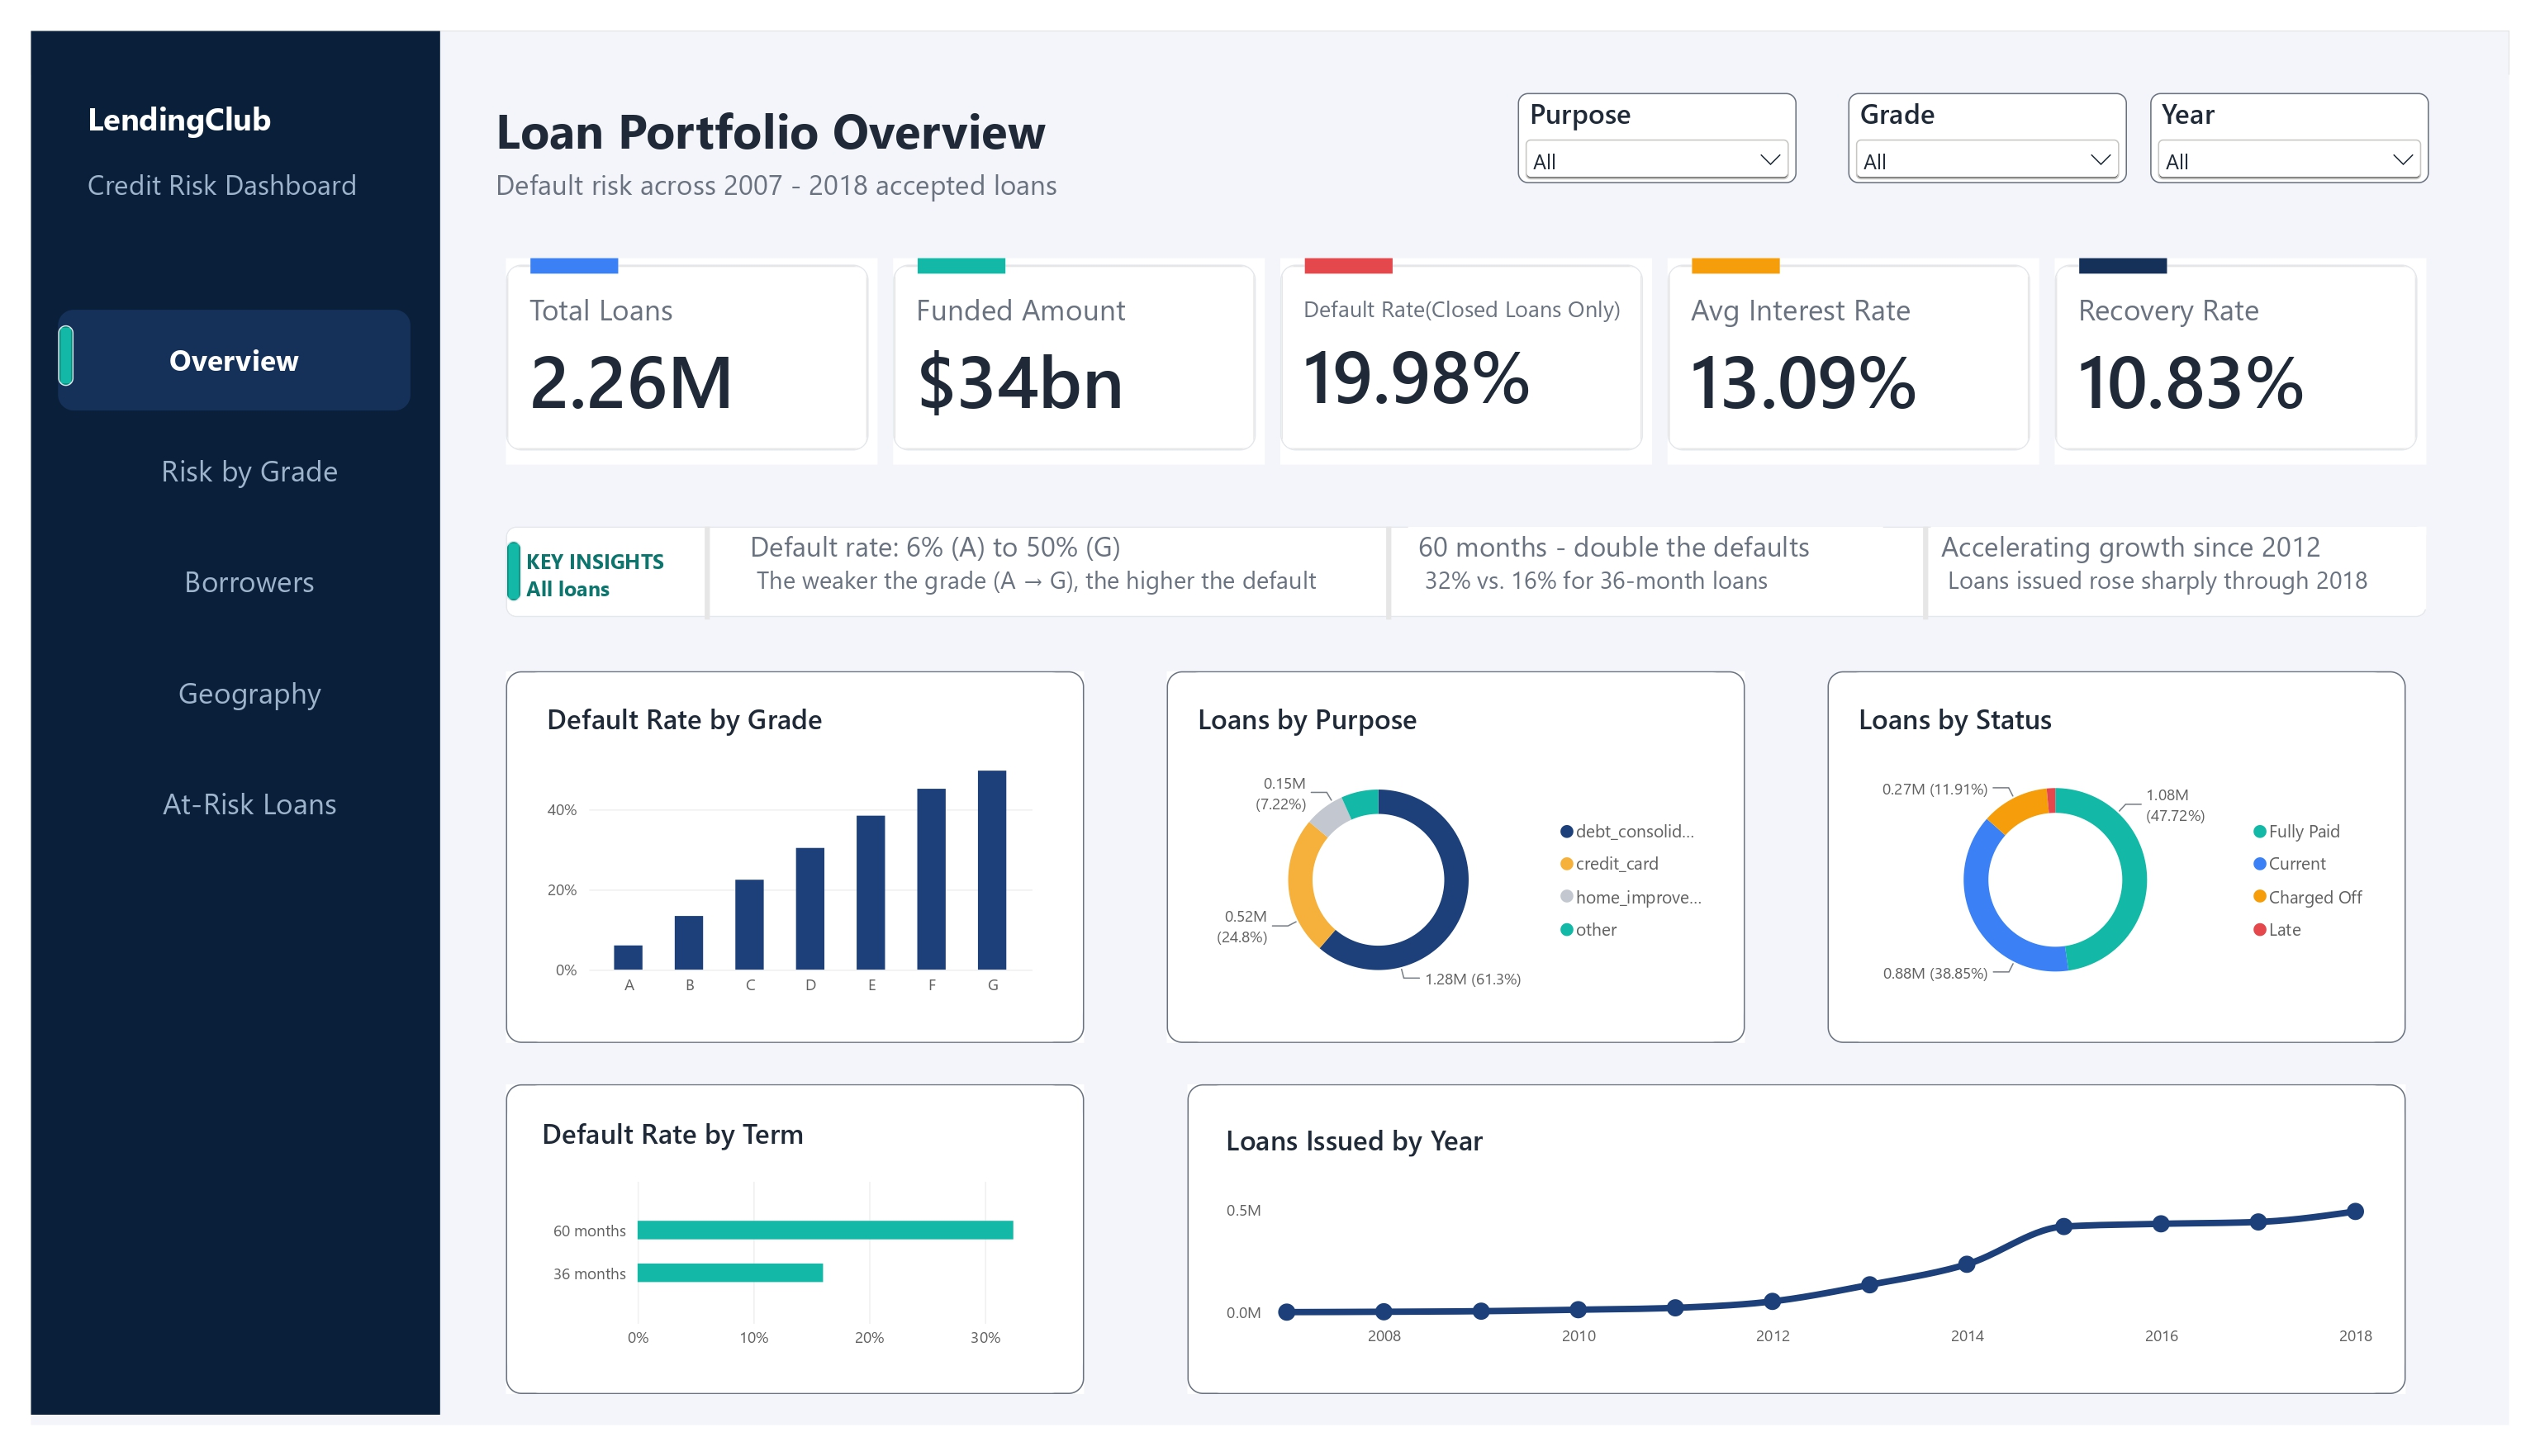

Layout of this report page (visuals, bound fields, positions):
{"tool":"powerbi","page":{"name":"Overview","canvas":[1920,1080],"ordinal":0},"visuals":[{"type":"shape","box":[0,-8,317,1080],"z":0},{"type":"cardVisual","fields":{"Data":["loans_dashboard.Total Loans M"]},"box":[368,181,281,144],"z":0,"group":"g4"},{"type":"cardVisual","fields":{"Data":["Sum(loans_dashboard.funded_amnt)"]},"box":[668,181,281,144],"z":0,"group":"g1"},{"type":"cardVisual","fields":{"Data":["loans_dashboard.Charge-off Rate per 100 (closed loans)"]},"box":[968,181,281,144],"z":0,"group":"g2"},{"type":"cardVisual","fields":{"Data":["loans_dashboard.Avg Interest Rate"]},"box":[1268,181,281,144],"z":0,"group":"g3"},{"type":"cardVisual","fields":{"Data":["loans_dashboard.Recovery Rate"]},"box":[1568,181,281,144],"z":0,"group":"g5"},{"type":"textbox","box":[44,51,245,57],"z":1000},{"type":"shape","box":[387,176,68,12],"z":1000,"group":"g4"},{"type":"shape","box":[687,176,68,12],"z":1000,"group":"g1"},{"type":"shape","box":[987,176,68,12],"z":1000,"group":"g2"},{"type":"shape","box":[1287,176,68,12],"z":1000,"group":"g3"},{"type":"shape","box":[1587,176,68,12],"z":1000,"group":"g5"},{"type":"textbox","box":[44,104,245,44],"z":2000},{"type":"pageNavigator","box":[21,216,273,426],"z":3000},{"type":"shape","box":[21,228,12,47],"z":4000},{"type":"textbox","box":[360,51,552,72],"z":5000},{"type":"textbox","box":[360,104,528,48],"z":6000},{"type":"slicer","fields":{"Values":["loans_dashboard.issue_d.Variation.Date Hierarchy.Year"]},"box":[1642,48,216,70],"z":7000},{"type":"group","id":"g1","title":"Group 1","box":[668,176,288,160],"z":8000},{"type":"group","id":"g2","title":"Group 1","box":[968,176,288,160],"z":9000},{"type":"group","id":"g3","title":"Group 1","box":[1268,176,288,160],"z":10000},{"type":"group","id":"g4","title":"Group 1","box":[368,176,288,160],"z":11000},{"type":"group","id":"g5","title":"Group 1","box":[1568,176,288,160],"z":12000},{"type":"shape","box":[368,384,1488,70],"z":13000},{"type":"shape","box":[368,496,448,288],"z":13000,"group":"g6"},{"type":"shape","box":[368,395,12,47],"z":14000},{"type":"slicer","fields":{"Values":["loans_dashboard.grade"]},"box":[1408,48,216,70],"z":15000},{"type":"shape","box":[880,496,448,288],"z":15000,"group":"g9"},{"type":"shape","box":[1392,496,448,288],"z":15000,"group":"g7"},{"type":"shape","box":[368,816,448,240],"z":15000,"group":"g10"},{"type":"slicer","fields":{"Values":["loans_dashboard.purpose"]},"box":[1152,48,216,70],"z":16000},{"type":"group","id":"g6","title":"Group 2","box":[368,496,448,288],"z":17000},{"type":"shape","box":[896,816,944,240],"z":17000,"group":"g8"},{"type":"clusteredColumnChart","title":"Default Rate by Grade","fields":{"Category":["loans_dashboard.grade"],"Y":["loans_dashboard.Charge-off Rate per 100 (closed loans)"]},"box":[384,504,408,264],"z":17005,"group":"g6"},{"type":"donutChart","title":"Loans by Purpose","fields":{"Category":["loans_dashboard.purpose"],"Y":["CountNonNull(loans_dashboard.id)"]},"box":[888,504,432,264],"z":17007,"group":"g9"},{"type":"donutChart","title":"Loans by Status","fields":{"Category":["loans_dashboard.loan_status (groups)"],"Y":["CountNonNull(loans_dashboard.id)"]},"box":[1400,504,432,264],"z":17007,"group":"g7"},{"type":"group","id":"g7","title":"Group 3","box":[1392,496,456,288],"z":18000},{"type":"group","id":"g8","title":"Group 4","box":[896,816,944,240],"z":19000},{"type":"group","id":"g9","title":"Group 3","box":[880,496,448,288],"z":20000},{"type":"barChart","title":"Default Rate by Term","fields":{"Category":["loans_dashboard.term"],"Y":["loans_dashboard.Charge-off Rate per 100 (closed loans)"]},"box":[380,825,432,216],"z":20002,"group":"g10"},{"type":"group","id":"g10","title":"Group 5","box":[368,816,448,240],"z":21000},{"type":"lineChart","title":"Loans Issued by Year","fields":{"Category":["loans_dashboard.issue_d.Variation.Date Hierarchy.Year"],"Y":["CountNonNull(loans_dashboard.id)"]},"box":[910,830,920,210],"z":21001,"group":"g8"},{"type":"textbox","box":[384,400,128,48],"z":22000},{"type":"textbox","box":[1472,384,384,64],"z":23000},{"type":"textbox","box":[1066.7,384,368,64],"z":24000},{"type":"textbox","box":[549.3,384,480,64],"z":25000},{"type":"shape","box":[1040,384,24,72],"z":26000},{"type":"shape","box":[512,384,24,72],"z":27000},{"type":"shape","box":[1456,384,24,72],"z":28000}]}

Visuals, with their boxes on the page's 1920x1080 design canvas (x1, y1, x2, y2). These are canvas units, not pixel positions in the 2540x1456 screenshot, which may show the page scaled, cropped or inside an application window:
shape: bbox(0, -8, 317, 1072)
cardVisual - loans_dashboard.Total Loans M: bbox(368, 181, 649, 325)
cardVisual - Sum(loans_dashboard.funded_amnt): bbox(668, 181, 949, 325)
cardVisual - loans_dashboard.Charge-off Rate per 100 (closed loans): bbox(968, 181, 1249, 325)
cardVisual - loans_dashboard.Avg Interest Rate: bbox(1268, 181, 1549, 325)
cardVisual - loans_dashboard.Recovery Rate: bbox(1568, 181, 1849, 325)
textbox: bbox(44, 51, 289, 108)
shape: bbox(387, 176, 455, 188)
shape: bbox(687, 176, 755, 188)
shape: bbox(987, 176, 1055, 188)
shape: bbox(1287, 176, 1355, 188)
shape: bbox(1587, 176, 1655, 188)
textbox: bbox(44, 104, 289, 148)
pageNavigator: bbox(21, 216, 294, 642)
shape: bbox(21, 228, 33, 275)
textbox: bbox(360, 51, 912, 123)
textbox: bbox(360, 104, 888, 152)
slicer - loans_dashboard.issue_d.Variation.Date Hierarchy.Year: bbox(1642, 48, 1858, 118)
"Group 1" group: bbox(668, 176, 956, 336)
"Group 1" group: bbox(968, 176, 1256, 336)
"Group 1" group: bbox(1268, 176, 1556, 336)
"Group 1" group: bbox(368, 176, 656, 336)
"Group 1" group: bbox(1568, 176, 1856, 336)
shape: bbox(368, 384, 1856, 454)
shape: bbox(368, 496, 816, 784)
shape: bbox(368, 395, 380, 442)
slicer - loans_dashboard.grade: bbox(1408, 48, 1624, 118)
shape: bbox(880, 496, 1328, 784)
shape: bbox(1392, 496, 1840, 784)
shape: bbox(368, 816, 816, 1056)
slicer - loans_dashboard.purpose: bbox(1152, 48, 1368, 118)
"Group 2" group: bbox(368, 496, 816, 784)
shape: bbox(896, 816, 1840, 1056)
"Default Rate by Grade" clusteredColumnChart: bbox(384, 504, 792, 768)
"Loans by Purpose" donutChart: bbox(888, 504, 1320, 768)
"Loans by Status" donutChart: bbox(1400, 504, 1832, 768)
"Group 3" group: bbox(1392, 496, 1848, 784)
"Group 4" group: bbox(896, 816, 1840, 1056)
"Group 3" group: bbox(880, 496, 1328, 784)
"Default Rate by Term" barChart: bbox(380, 825, 812, 1041)
"Group 5" group: bbox(368, 816, 816, 1056)
"Loans Issued by Year" lineChart: bbox(910, 830, 1830, 1040)
textbox: bbox(384, 400, 512, 448)
textbox: bbox(1472, 384, 1856, 448)
textbox: bbox(1067, 384, 1435, 448)
textbox: bbox(549, 384, 1029, 448)
shape: bbox(1040, 384, 1064, 456)
shape: bbox(512, 384, 536, 456)
shape: bbox(1456, 384, 1480, 456)
